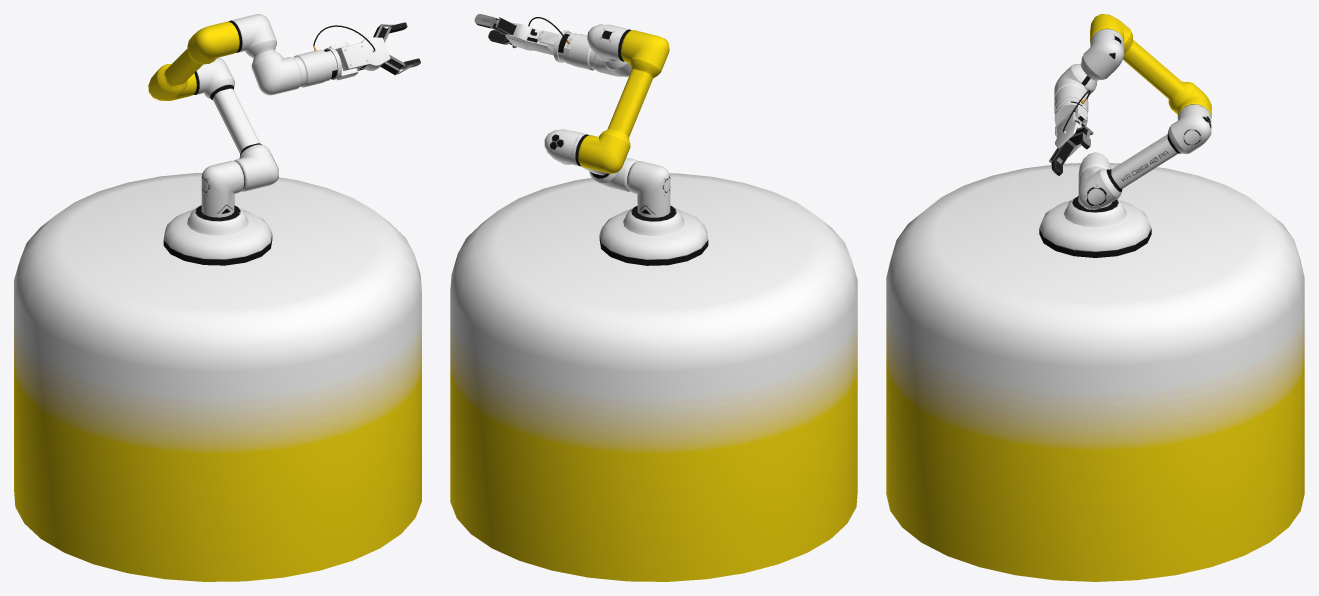
The model's file is arm.glb.
3 renders of one model, left to right at view 1: azimuth 30°, elevation 25°; view 2: azimuth 150°, elevation 25°; view 3: azimuth 270°, elevation 25°, orthographic. The views are drawn at different scales.
Visible parts, largest first — view 1: stand, base0, shoulder, elbow1, wrist1, base1, gripper_base, elbow2; view 2: stand, base0, elbow1, base1, shoulder, wrist1, elbow2, gripper_base, gripper1; view 3: stand, base0, shoulder, elbow1, elbow2, wrist1, gripper_base.
Part boxes in pixels (<box>): stand: <box>14,173,421,581</box>; base0: <box>163,205,272,265</box>; shoulder: <box>194,57,279,191</box>; elbow1: <box>148,21,239,100</box>; wrist1: <box>251,47,341,95</box>; base1: <box>201,160,244,217</box>; gripper_base: <box>329,37,390,80</box>; elbow2: <box>228,14,276,58</box>; stand: <box>450,173,857,581</box>; base0: <box>599,205,708,265</box>; elbow1: <box>578,30,669,173</box>; base1: <box>627,161,670,217</box>; shoulder: <box>544,129,637,191</box>; wrist1: <box>553,30,631,76</box>; elbow2: <box>587,24,631,62</box>; gripper_base: <box>505,22,558,55</box>; gripper1: <box>474,14,516,34</box>; stand: <box>886,163,1304,581</box>; base0: <box>1039,196,1151,257</box>; shoulder: <box>1078,104,1211,209</box>; elbow1: <box>1090,14,1211,118</box>; elbow2: <box>1080,28,1124,80</box>; wrist1: <box>1054,63,1097,125</box>; gripper_base: <box>1055,105,1087,156</box>.
Bounding box in the file's own units: 1.79 × 2.2 × 1.75.
Materials: 2 (2 with a texture image).
